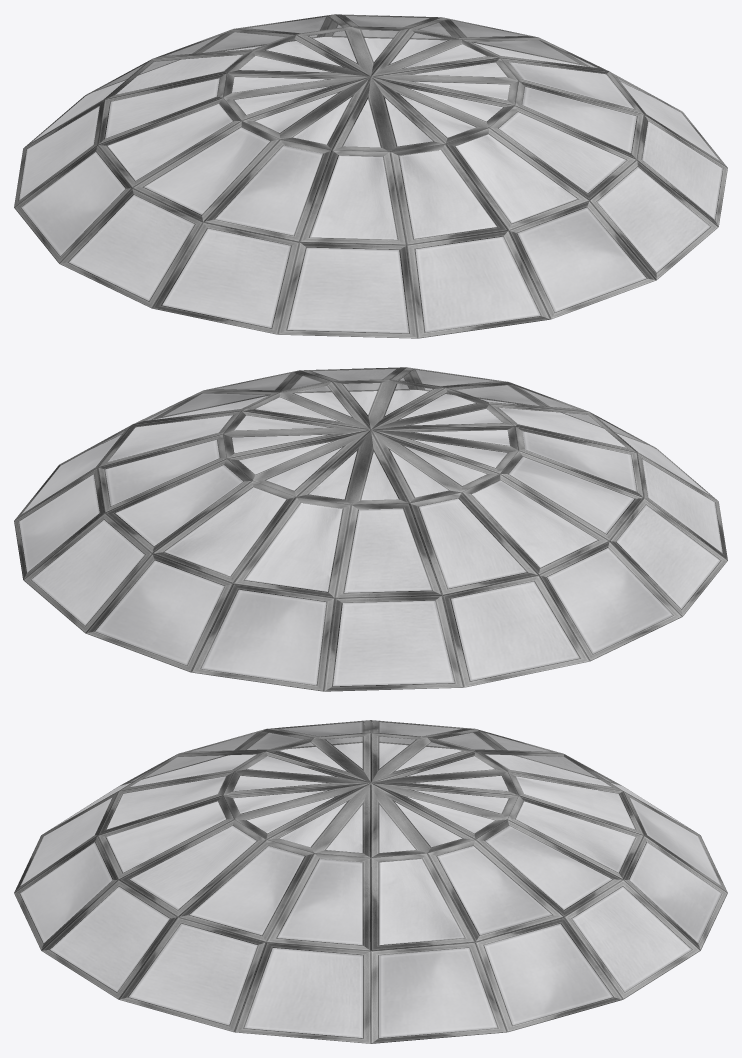
Rendered from SM_SYD_GlassDome.fbx.
3 views of the same model, one above another, from view 1: azimuth 30°, elevation 25°; view 2: azimuth 150°, elevation 25°; view 3: azimuth 270°, elevation 25° (orthographic).
Parts seen in each view (by area): view 1: Sphere_001, Sphere; view 2: Sphere_001, Sphere; view 3: Sphere_001, Sphere.
Boxes of the visible parts, x1,y1,x2,y2 form: Sphere_001: [19, 15, 722, 332]; Sphere: [14, 14, 727, 338]; Sphere_001: [19, 368, 722, 685]; Sphere: [14, 367, 727, 691]; Sphere_001: [20, 722, 721, 1037]; Sphere: [14, 720, 727, 1043].
Size of the model in its own units: 2587 by 440 by 2587.
